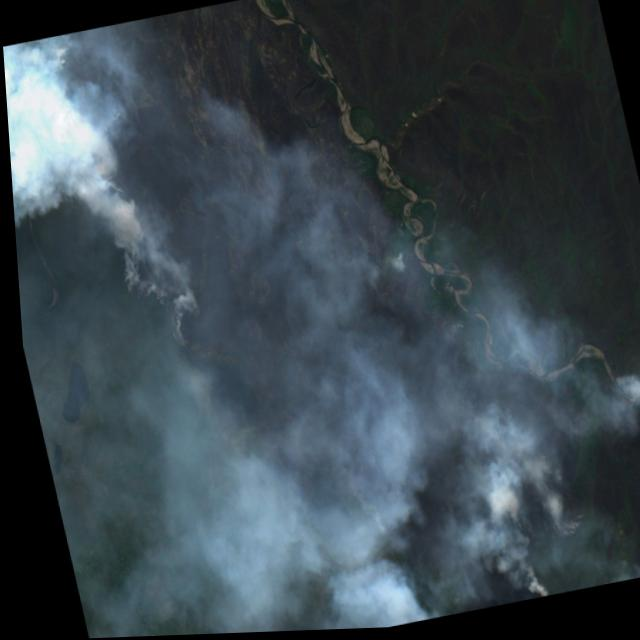fire: (36, 19, 209, 360), (437, 414, 588, 613), (627, 361, 640, 424)
